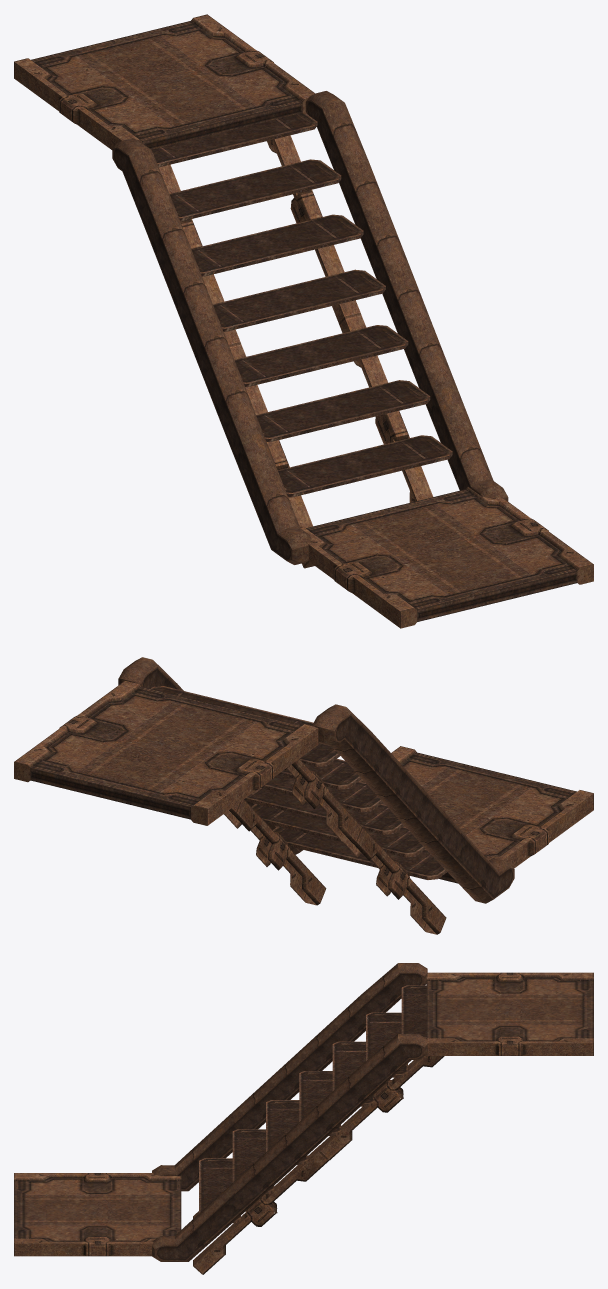
The model's file is metal_theta_rusty_stairwell_short.dae.
The picture shows the model from 3 angles, top to bottom: view 1: azimuth 30°, elevation 25°; view 2: azimuth 150°, elevation 25°; view 3: azimuth 270°, elevation 25°; orthographic projection. The views are drawn at different scales.
Parts seen in each view (by area): view 1: short, catwalk__3_; view 2: catwalk__3_, short; view 3: catwalk__3_, short.
Part boxes in pixels (x1,y1,x2,y2): short: (112, 91, 508, 564); catwalk__3_: (14, 14, 593, 628); catwalk__3_: (14, 681, 593, 934); short: (118, 657, 514, 903); catwalk__3_: (14, 972, 593, 1274); short: (152, 963, 427, 1261).
Size of the model in its own units: 2.24 by 3.29 by 6.93.
